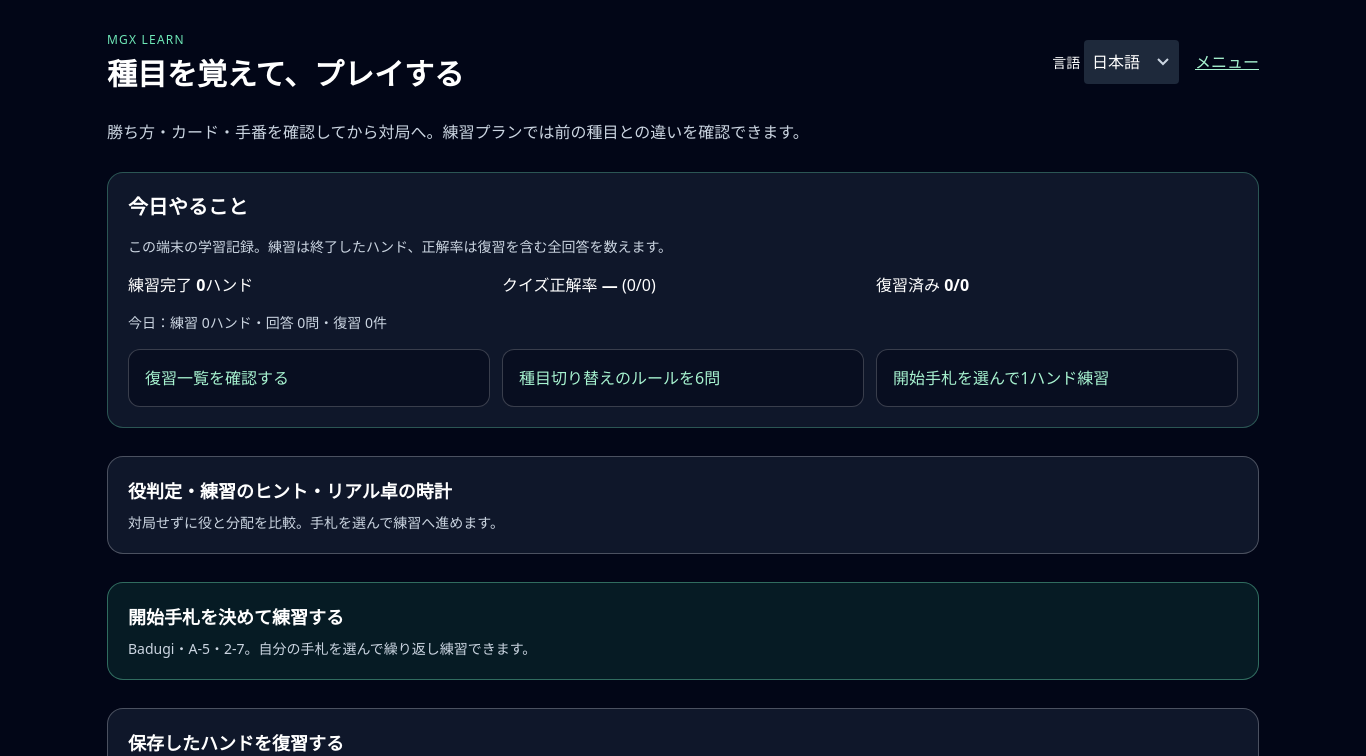
Test: learning routes › persists the language and handles invalid deep links
Select "English" in the dropdown named "Language" at (1132, 62), box 1084,40 -> 1179,84
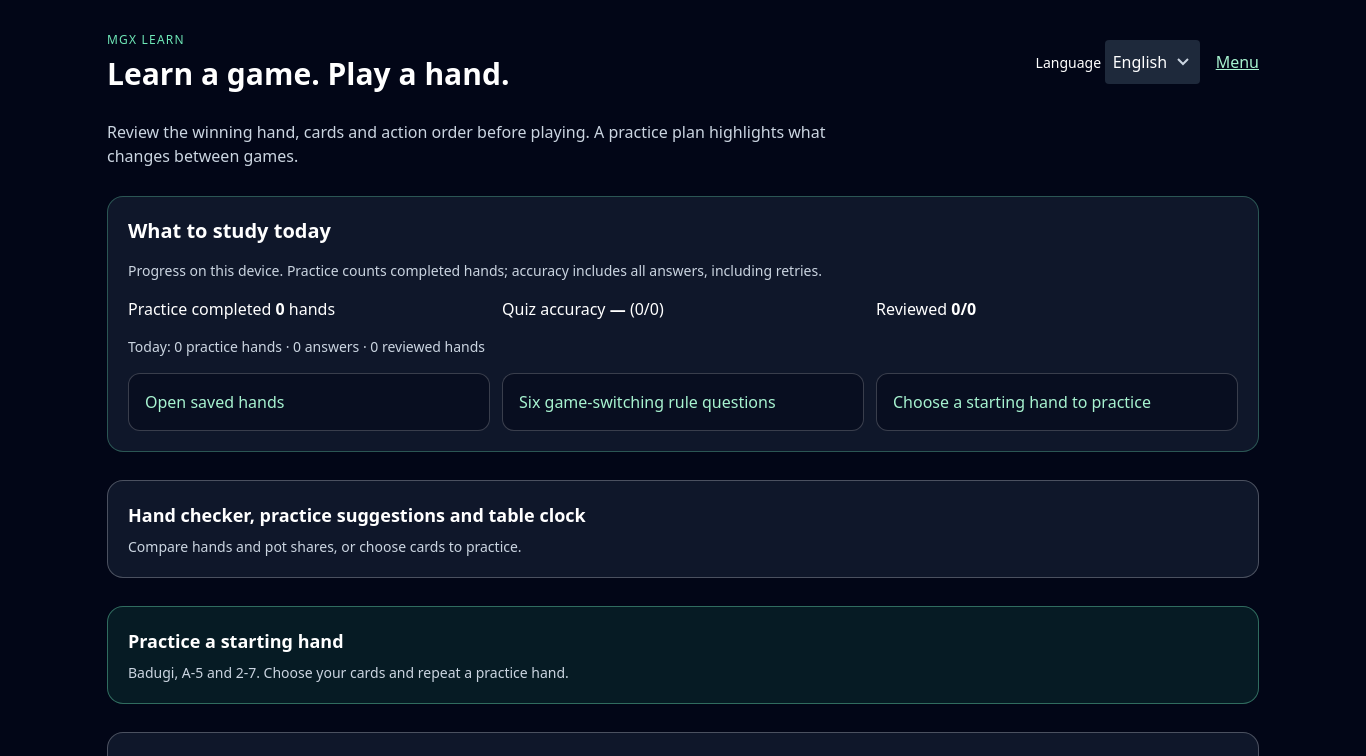
Now the heading "Learn a game. Play a hand." is shown, box 107,56 -> 510,92
